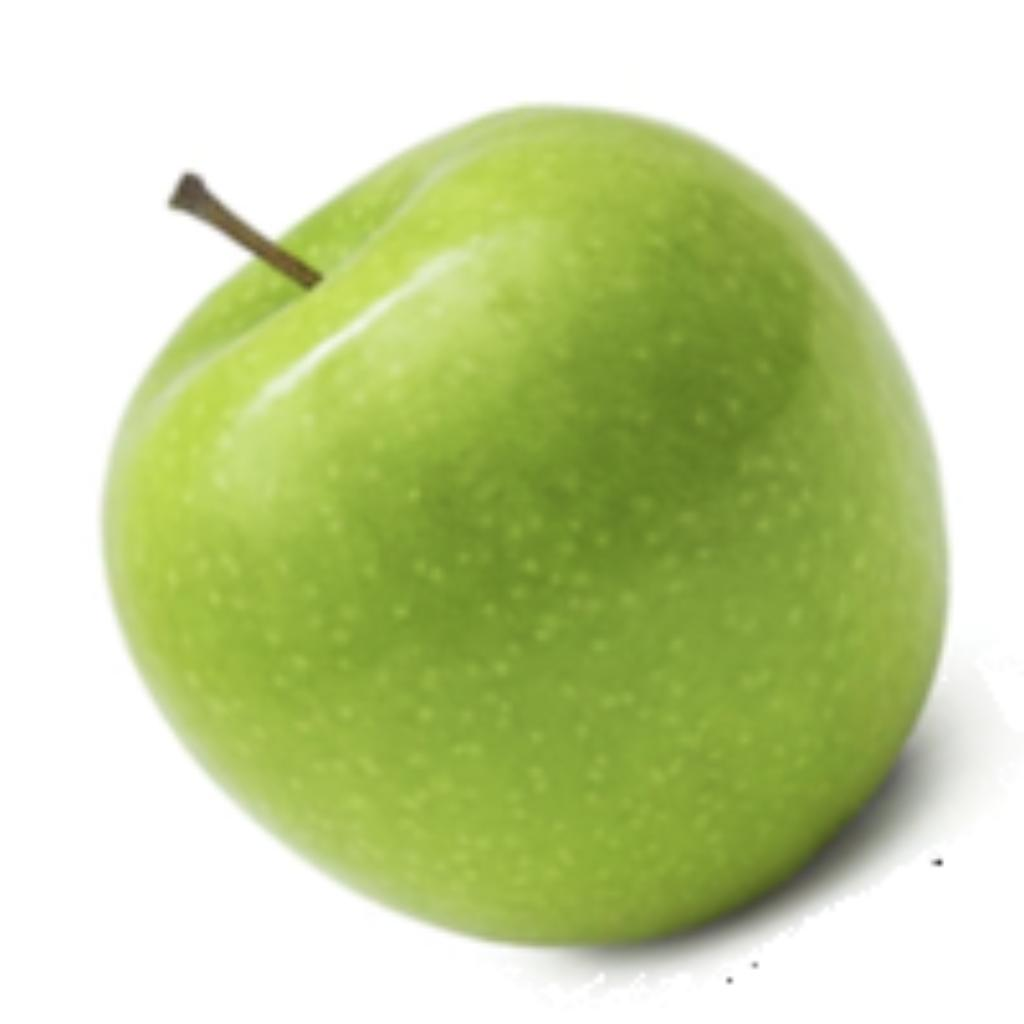apple: (92, 97, 1004, 1004)
